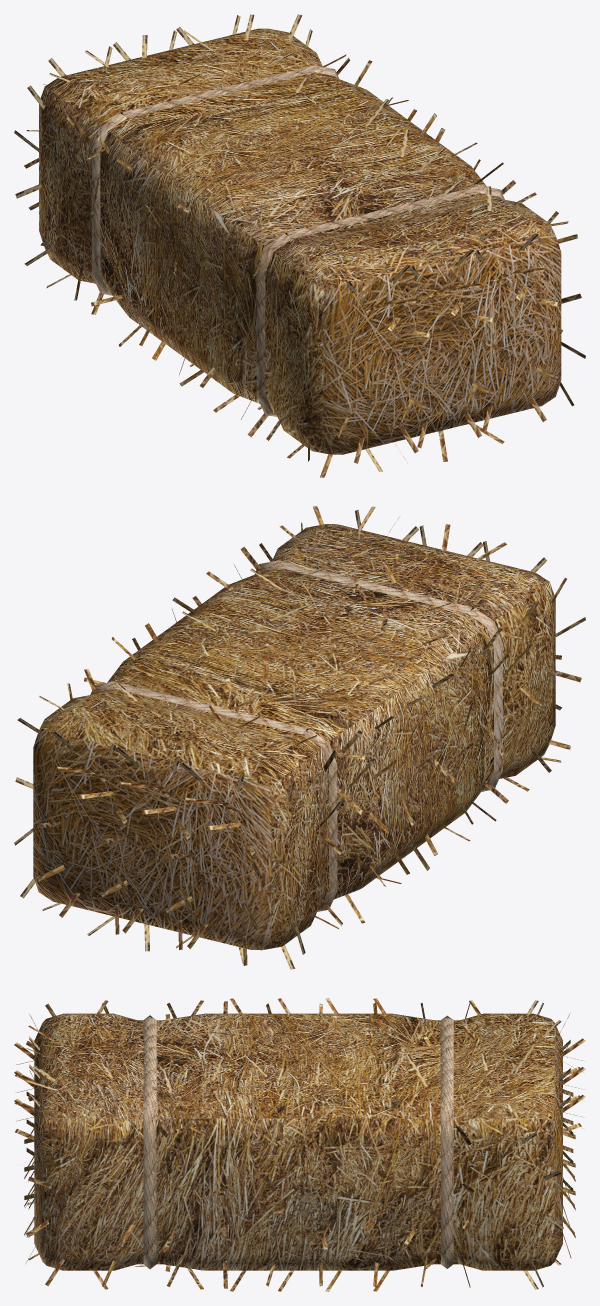
The model's file is SM_Haystack_02.fbx.
3 views of the same model, one above another, from view 1: azimuth 30°, elevation 25°; view 2: azimuth 150°, elevation 25°; view 3: azimuth 270°, elevation 25° (orthographic). The views are drawn at different scales.
Parts seen in each view (by area): view 1: Cube.120, Cube.192, Cube.178, Cube.189, Cube.176, Cube.180, Cube.182, Cube.181, Cube.177, Cube.175; view 2: Cube.120, Cube.189, Cube.192, Cube.175, Cube.177, Cube.178, Cube.185, Cube.183, Cube.184, Cube.176; view 3: Cube.120, Cube.190, Cube.188, Cube.176, Cube.177, Cube.175, Cube.178, Cube.183, Cube.184, Cube.185, Cube.182, Cube.181.
Part boxes in pixels (left/top/right/bottom): Cube.120: left=39, top=28, right=561, bottom=454; Cube.192: left=24, top=248, right=332, bottom=477; Cube.178: left=288, top=14, right=577, bottom=243; Cube.189: left=14, top=130, right=313, bottom=405; Cube.176: left=183, top=14, right=522, bottom=241; Cube.180: left=334, top=264, right=434, bottom=463; Cube.182: left=462, top=233, right=562, bottom=432; Cube.181: left=398, top=249, right=498, bottom=448; Cube.177: left=27, top=73, right=309, bottom=302; Cube.175: left=85, top=35, right=448, bottom=267; Cube.120: left=33, top=524, right=555, bottom=950; Cube.189: left=285, top=617, right=585, bottom=904; Cube.192: left=281, top=740, right=570, bottom=969; Cube.175: left=155, top=524, right=506, bottom=760; Cube.177: left=269, top=578, right=566, bottom=795; Cube.178: left=17, top=506, right=323, bottom=732; Cube.185: left=165, top=763, right=265, bottom=965; Cube.183: left=37, top=731, right=137, bottom=934; Cube.184: left=100, top=747, right=200, bottom=949; Cube.176: left=74, top=506, right=398, bottom=723; Cube.120: left=34, top=1013, right=562, bottom=1270; Cube.190: left=45, top=1251, right=543, bottom=1291; Cube.188: left=26, top=1158, right=563, bottom=1252; Cube.176: left=27, top=1047, right=534, bottom=1093; Cube.177: left=45, top=998, right=543, bottom=1018; Cube.175: left=26, top=1014, right=563, bottom=1060; Cube.178: left=37, top=1099, right=536, bottom=1151; Cube.183: left=558, top=1069, right=585, bottom=1258; Cube.184: left=558, top=1041, right=585, bottom=1225; Cube.185: left=558, top=1014, right=585, bottom=1198; Cube.182: left=14, top=1070, right=40, bottom=1262; Cube.181: left=14, top=1041, right=39, bottom=1235.
Bounding box in the file's own units: 119 × 85.45 × 216.
